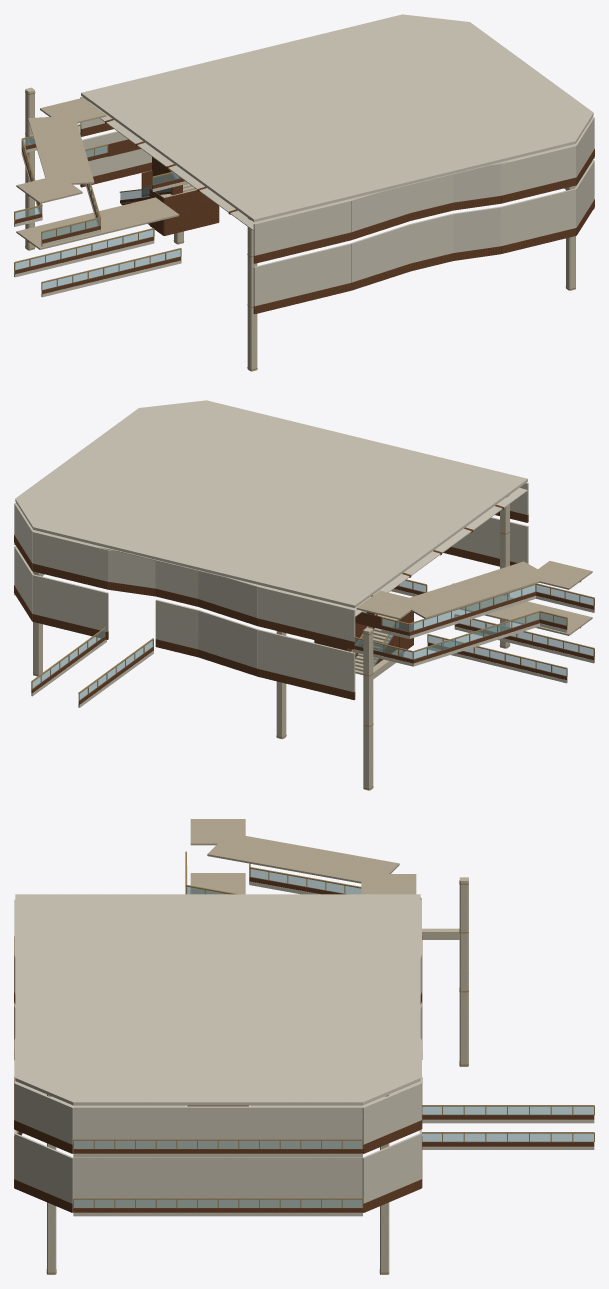
File: AST-COM-001.glb
3 renders of one model, top to bottom at view 1: azimuth 30°, elevation 25°; view 2: azimuth 150°, elevation 25°; view 3: azimuth 270°, elevation 25°, orthographic. The views are drawn at different scales.
Parts seen in each view (by area): view 1: SC_static_ivory_enamel, SC_static_warm_walnut, SC_static_oatmeal_weave, SC_static_glass, SC_static_warm_stone, SC_static_champagne_metal; view 2: SC_static_ivory_enamel, SC_static_warm_walnut, SC_static_oatmeal_weave, SC_static_glass, SC_static_warm_stone, SC_static_champagne_metal; view 3: SC_static_ivory_enamel, SC_static_glass, SC_static_warm_walnut, SC_static_oatmeal_weave, SC_static_warm_stone, SC_static_champagne_metal.
Part boxes in pixels (x1,y1,x2,y2): SC_static_ivory_enamel: (14, 14, 594, 308); SC_static_warm_walnut: (14, 119, 594, 313); SC_static_oatmeal_weave: (16, 98, 179, 249); SC_static_glass: (15, 126, 180, 289); SC_static_warm_stone: (25, 87, 575, 371); SC_static_champagne_metal: (14, 91, 575, 370); SC_static_ivory_enamel: (14, 400, 594, 707); SC_static_warm_walnut: (14, 505, 594, 704); SC_static_oatmeal_weave: (356, 561, 592, 635); SC_static_glass: (32, 580, 593, 699); SC_static_warm_stone: (33, 495, 509, 790); SC_static_champagne_metal: (31, 531, 594, 789); SC_static_ivory_enamel: (14, 866, 594, 1216); SC_static_glass: (74, 869, 593, 1207); SC_static_warm_walnut: (14, 876, 594, 1212); SC_static_oatmeal_weave: (190, 819, 416, 894); SC_static_warm_stone: (47, 877, 468, 1274); SC_static_champagne_metal: (46, 851, 594, 1273).
Bounding box in the file's own units: 47.11 × 14.4 × 40.14.
8 materials, 6 textured.
